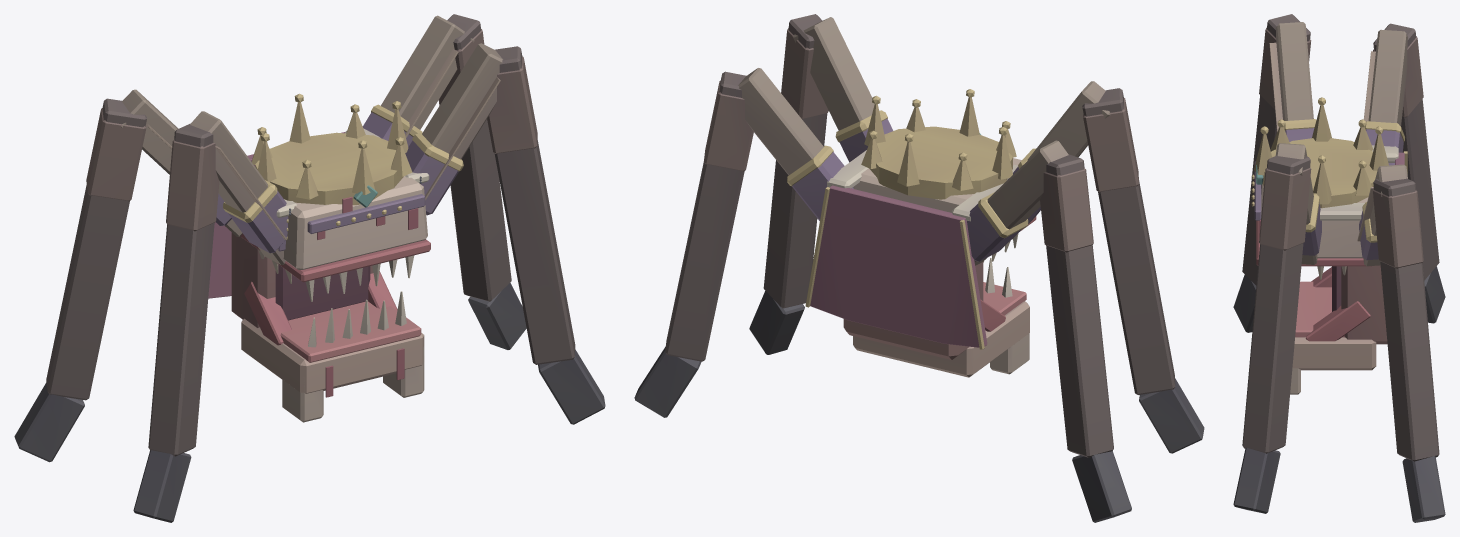
File: PrimitiveSummonerKing.glb
The picture shows the model from 3 angles, left to right: view 1: azimuth 30°, elevation 25°; view 2: azimuth 150°, elevation 25°; view 3: azimuth 270°, elevation 25°; orthographic projection. The views are drawn at different scales.
Visible parts, largest first — view 1: Body, ArmR, ArmL, LegR, LegL, Head; view 2: Body, LegR, LegL, ArmR, ArmL, Head; view 3: ArmL, LegL, Body, LegR, ArmR, Head.
Boxes of the visible parts, <box> form: Body: <box>208,93,430,327</box>; ArmR: <box>133,111,288,522</box>; ArmL: <box>405,43,605,424</box>; LegR: <box>14,89,242,462</box>; LegL: <box>362,14,526,349</box>; Head: <box>241,271,424,422</box>; Body: <box>805,89,1036,359</box>; LegR: <box>967,140,1131,522</box>; LegL: <box>634,68,853,417</box>; ArmR: <box>1007,81,1204,453</box>; ArmL: <box>749,14,893,354</box>; Head: <box>853,258,1029,377</box>; ArmL: <box>1233,143,1321,513</box>; LegL: <box>1357,164,1445,522</box>; Body: <box>1251,97,1407,344</box>; LegR: <box>1363,23,1445,323</box>; ArmR: <box>1233,14,1316,332</box>; Head: <box>1290,267,1376,394</box>.
Size of the model in its own units: 10.01 by 6.99 by 3.98.
